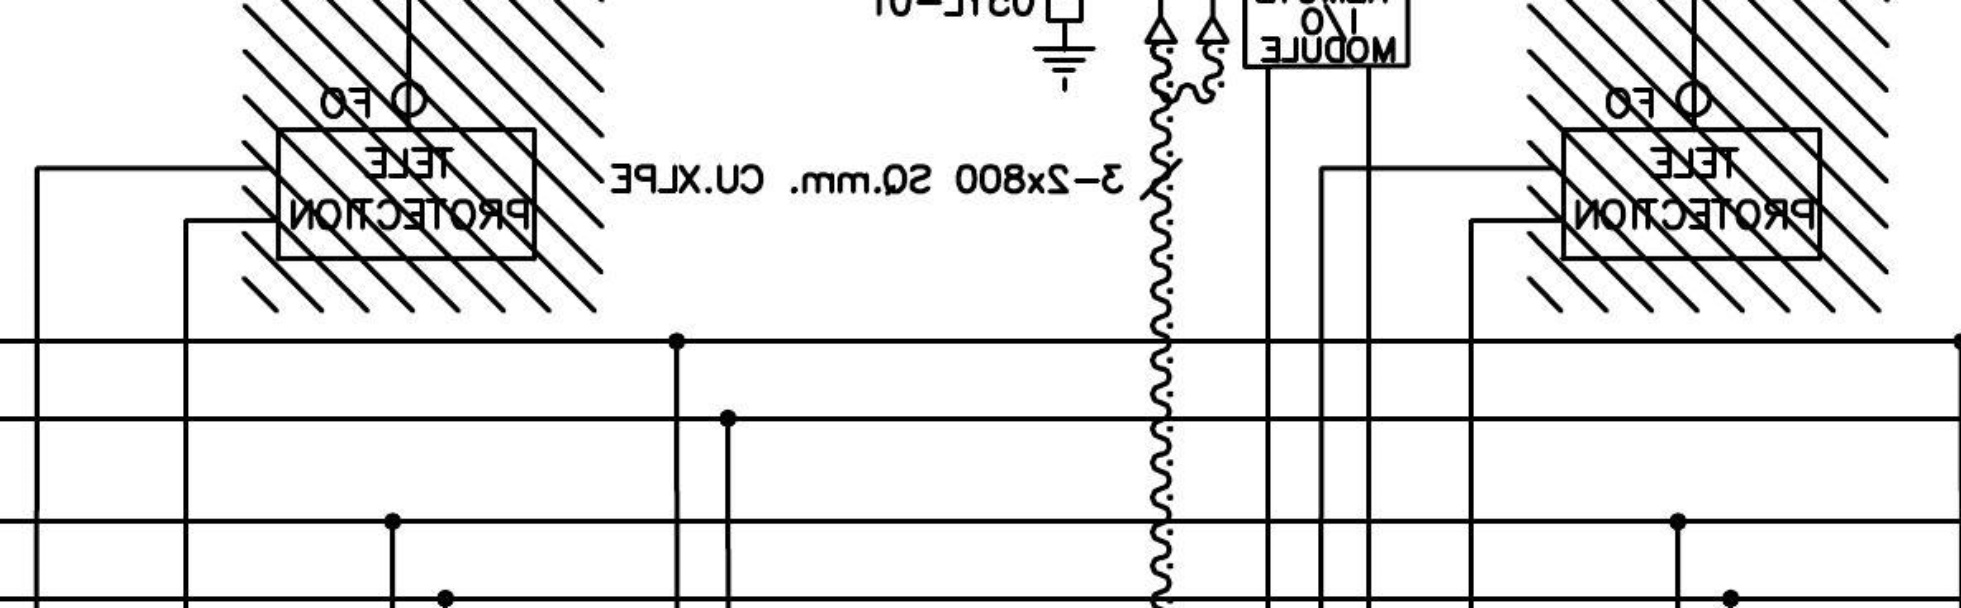tele_protection: (271, 123, 542, 266), (1557, 124, 1827, 266)
